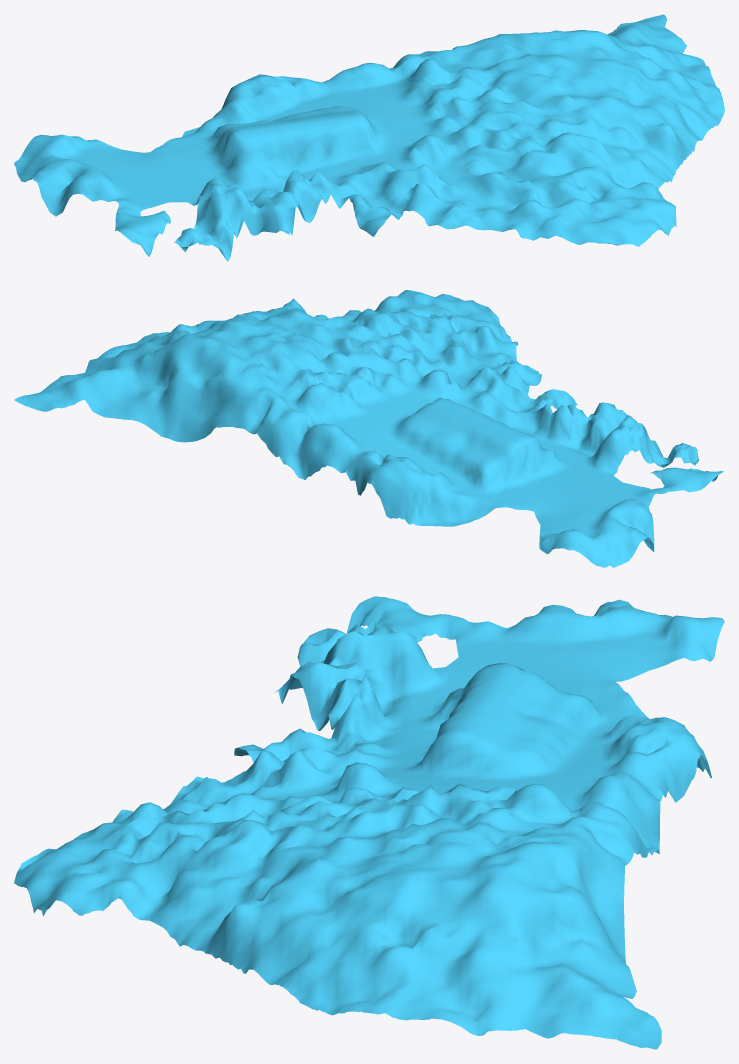
File: Jurassic.dae
3 views of the same model, one above another, from view 1: azimuth 30°, elevation 25°; view 2: azimuth 150°, elevation 25°; view 3: azimuth 270°, elevation 25° (orthographic). The views are drawn at different scales.
Visible parts, largest first — view 1: Jurassic; view 2: Jurassic; view 3: Jurassic.
Part boxes in pixels (x1,y1,x2,y2): Jurassic: (14, 14, 724, 261); Jurassic: (14, 290, 723, 567); Jurassic: (14, 596, 724, 1049).
Size of the model in its own units: 43.87 by 29.55 by 5.36.
